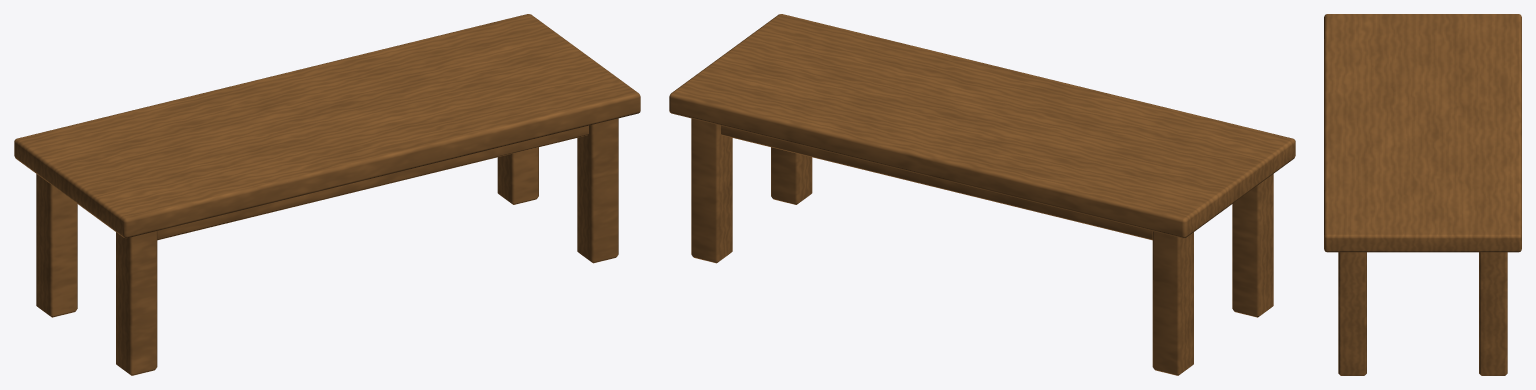
The model's file is Furn_CafeteriaTable.fbx.
3 views of the same model, side by side, from view 1: azimuth 30°, elevation 25°; view 2: azimuth 150°, elevation 25°; view 3: azimuth 270°, elevation 25° (orthographic). The views are drawn at different scales.
Parts seen in each view (by area): view 1: Furn_CafeteriaTable_Mesh; view 2: Furn_CafeteriaTable_Mesh; view 3: Furn_CafeteriaTable_Mesh.
Boxes of the visible parts, <box> form: Furn_CafeteriaTable_Mesh: <box>14,14,640,375</box>; Furn_CafeteriaTable_Mesh: <box>669,14,1295,375</box>; Furn_CafeteriaTable_Mesh: <box>1324,14,1521,375</box>.
Size of the model in its own units: 2.4 by 0.74 by 0.9.
1 material, 1 textured.
